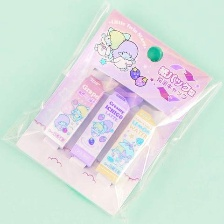carton: (67, 88, 131, 168), (41, 72, 105, 150), (95, 107, 158, 180)
